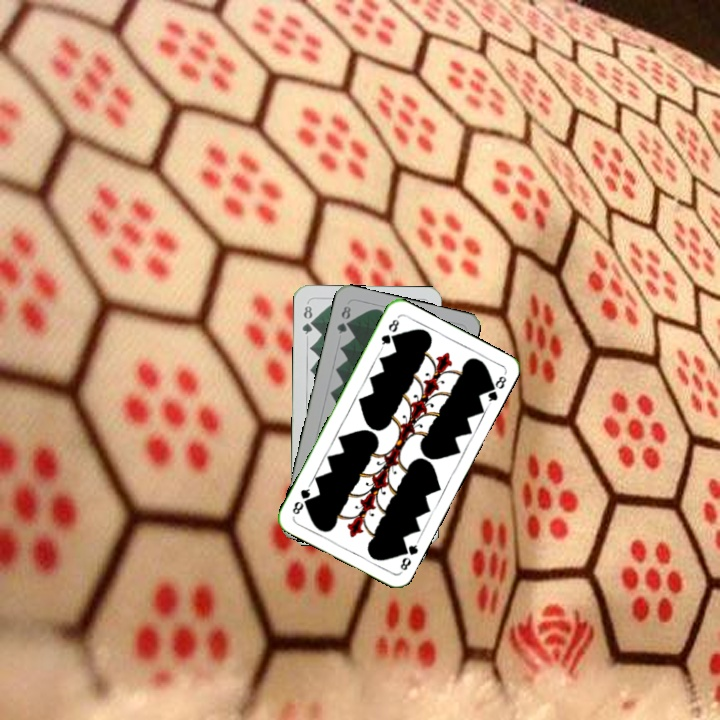G8: (396, 537, 421, 575), (377, 315, 402, 351), (333, 301, 353, 336), (298, 302, 316, 337)
